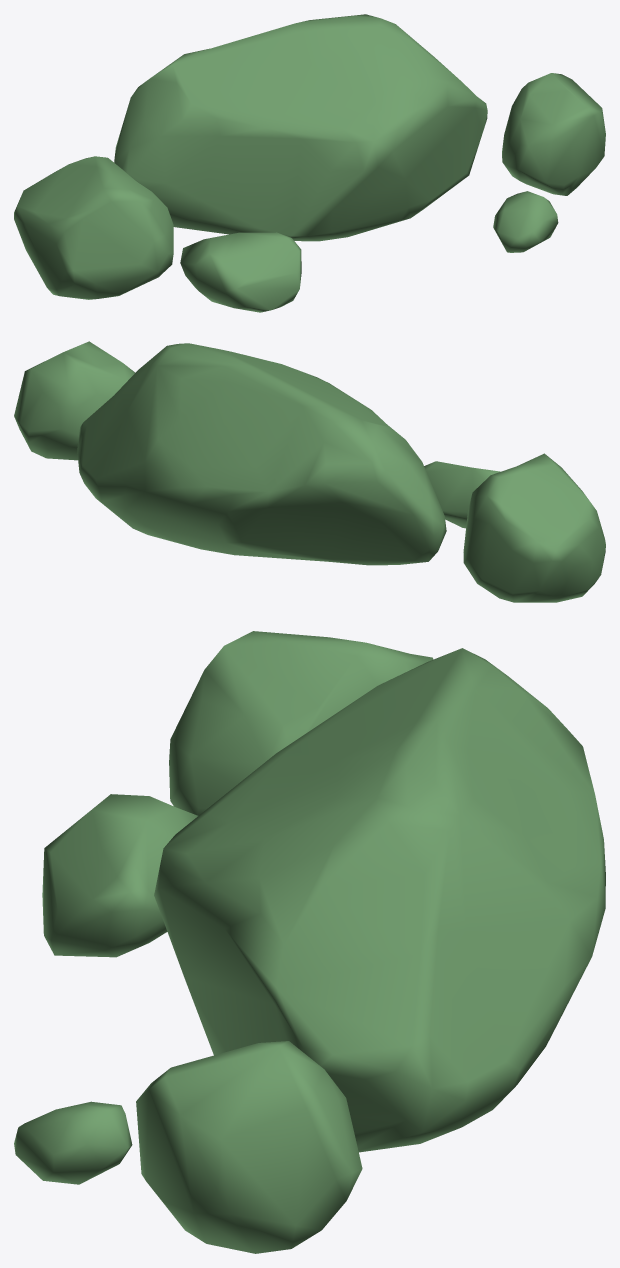
Rendered from sm_rockpile.fbx.
The picture shows the model from 3 angles, top to bottom: view 1: azimuth 30°, elevation 25°; view 2: azimuth 150°, elevation 25°; view 3: azimuth 270°, elevation 25°; orthographic projection. The views are drawn at different scales.
Parts seen in each view (by area): view 1: sm_rockpile; view 2: sm_rockpile; view 3: sm_rockpile.
Part boxes in pixels (x1,y1,x2,y2): sm_rockpile: (14,14,605,312); sm_rockpile: (14,341,605,602); sm_rockpile: (14,631,605,1253).
Size of the model in its own units: 127 by 41.69 by 63.63.
